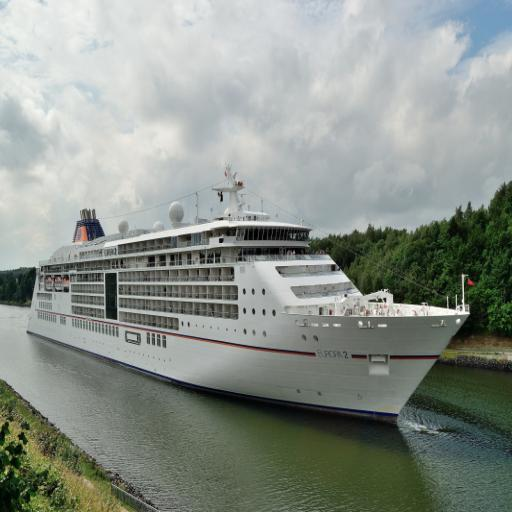cruises: (27, 161, 477, 435)
